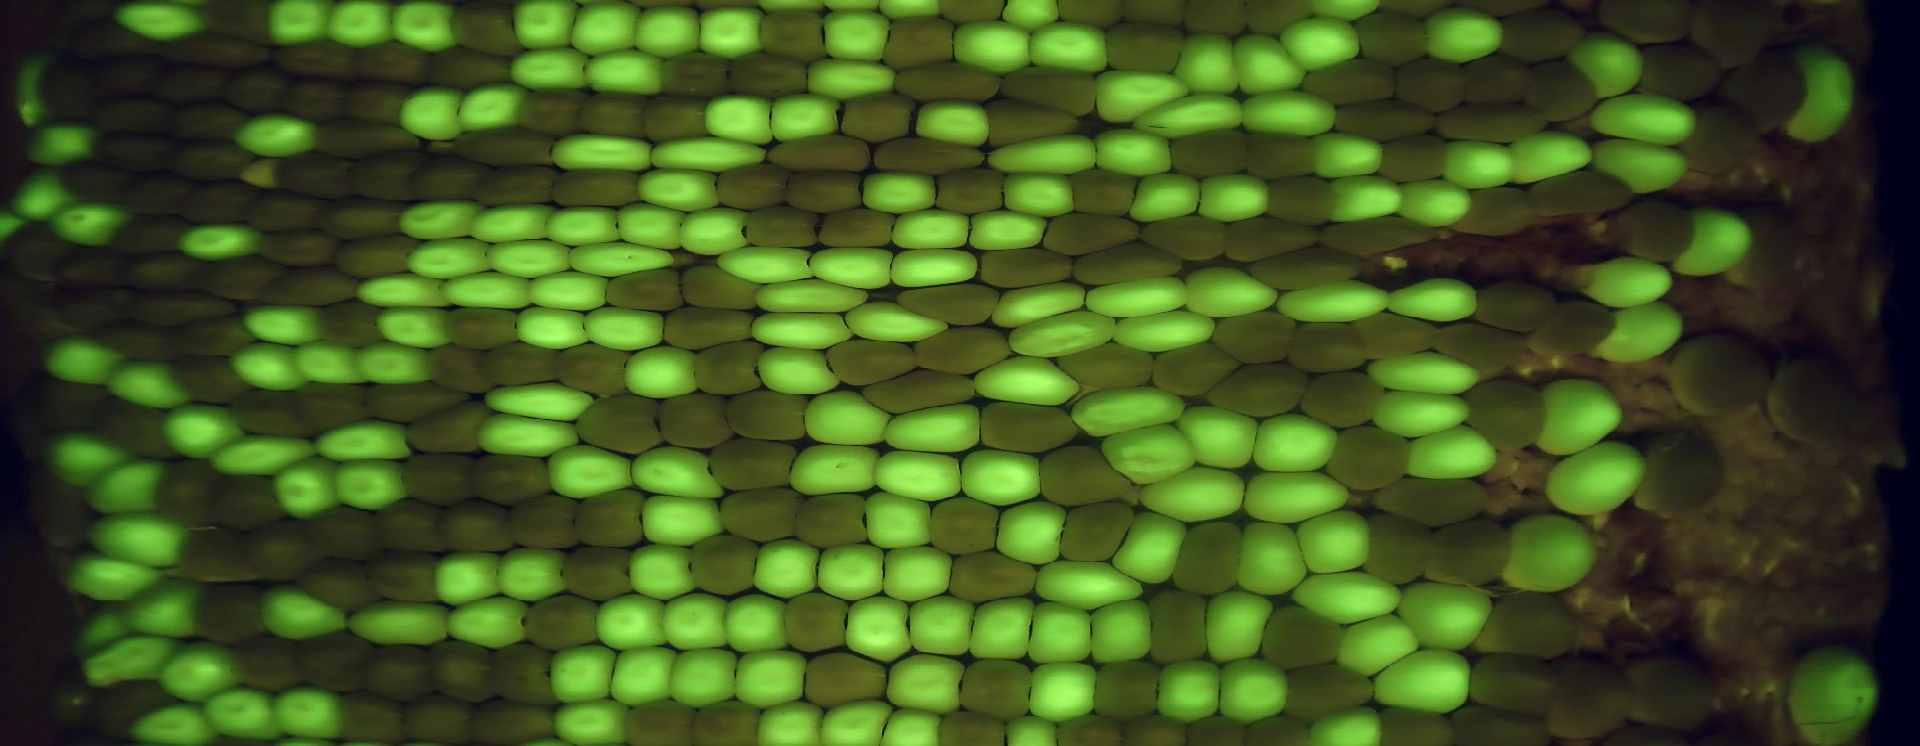fluorescent: (1780, 639, 1888, 745), (1536, 435, 1652, 524), (1495, 510, 1605, 595), (1389, 573, 1498, 653), (1528, 374, 1622, 463), (1784, 39, 1858, 148), (1365, 644, 1476, 717), (1236, 465, 1357, 529), (58, 546, 175, 611), (1583, 296, 1689, 369), (1135, 461, 1251, 526), (77, 627, 189, 695), (80, 507, 198, 570), (1291, 565, 1407, 628), (1669, 202, 1758, 284), (1226, 518, 1318, 595), (1330, 608, 1423, 684), (1586, 91, 1706, 149), (1106, 505, 1191, 586), (156, 638, 255, 708), (1095, 420, 1205, 483), (195, 429, 324, 481), (1067, 385, 1188, 441), (632, 439, 727, 510), (1398, 423, 1505, 486), (1032, 557, 1155, 612), (1267, 278, 1398, 330), (38, 425, 146, 488), (252, 581, 355, 646), (1560, 28, 1651, 102), (1004, 309, 1129, 361), (1092, 65, 1195, 129), (1245, 412, 1346, 477), (1362, 345, 1485, 398), (1587, 134, 1695, 194), (1571, 247, 1676, 309), (473, 408, 591, 462), (1128, 88, 1249, 141), (1174, 401, 1264, 472), (879, 398, 984, 458), (342, 595, 456, 650), (988, 496, 1071, 571), (1368, 386, 1476, 443), (869, 445, 972, 505), (118, 575, 211, 641), (1180, 262, 1284, 321), (482, 375, 604, 425), (76, 454, 171, 518), (973, 352, 1084, 407), (789, 436, 885, 499), (984, 127, 1104, 178), (880, 650, 970, 718), (802, 386, 896, 450), (538, 442, 642, 500), (647, 129, 771, 176), (1294, 506, 1381, 575), (1224, 29, 1311, 98), (1234, 87, 1344, 141), (1205, 586, 1276, 669), (160, 398, 250, 464), (544, 127, 661, 178), (637, 488, 731, 550), (905, 588, 982, 664), (588, 586, 675, 653), (947, 15, 1040, 77), (1505, 125, 1598, 187), (438, 590, 535, 650), (711, 238, 818, 292), (731, 641, 812, 712), (905, 94, 1000, 154), (1089, 121, 1184, 181), (958, 445, 1046, 510), (989, 277, 1089, 334), (841, 296, 958, 345), (752, 274, 879, 318), (962, 594, 1038, 668), (632, 160, 729, 218), (1416, 7, 1512, 65), (61, 600, 140, 671), (264, 682, 355, 744), (754, 341, 849, 399), (1273, 15, 1368, 73), (662, 646, 744, 713), (1085, 590, 1158, 665), (655, 586, 735, 654), (883, 243, 988, 294), (1168, 26, 1243, 98), (198, 685, 294, 741), (1382, 272, 1484, 325), (1213, 657, 1296, 722), (1024, 16, 1112, 76), (394, 194, 500, 244), (578, 45, 673, 100), (1085, 271, 1195, 318), (564, 238, 687, 281), (743, 307, 862, 352), (842, 594, 915, 666), (309, 416, 418, 464), (627, 539, 705, 605), (1025, 661, 1109, 723), (1025, 598, 1098, 668), (1153, 657, 1228, 725), (811, 537, 887, 604), (749, 535, 825, 603), (1305, 125, 1392, 184), (228, 111, 327, 163), (719, 590, 797, 655), (40, 332, 129, 390), (1109, 307, 1224, 352), (1435, 137, 1524, 194), (878, 543, 960, 604), (107, 1, 220, 45), (393, 78, 470, 143), (102, 352, 189, 409), (996, 165, 1086, 220), (800, 55, 904, 103), (40, 198, 135, 251), (504, 40, 596, 94), (545, 641, 621, 706), (224, 337, 313, 392), (563, 1, 645, 61), (5, 164, 82, 228), (804, 243, 898, 295), (675, 202, 758, 261), (350, 268, 458, 314), (700, 88, 780, 149), (171, 217, 273, 265), (863, 488, 938, 552), (607, 643, 682, 708), (1193, 168, 1278, 224), (623, 342, 705, 401), (860, 164, 947, 219), (432, 548, 508, 610), (692, 5, 773, 62), (453, 80, 536, 135), (235, 298, 331, 345), (482, 232, 576, 281), (765, 89, 842, 148), (816, 9, 895, 65), (632, 2, 707, 62), (289, 334, 370, 390), (1392, 175, 1477, 228), (125, 699, 220, 746), (962, 205, 1056, 252), (495, 545, 572, 603), (522, 268, 612, 317), (400, 235, 498, 281), (584, 305, 672, 355), (1327, 171, 1409, 225), (1127, 168, 1204, 224), (464, 201, 562, 245), (888, 205, 976, 254), (349, 334, 435, 385), (549, 696, 634, 746), (514, 301, 599, 352), (506, 1, 585, 54), (538, 205, 627, 251), (816, 695, 896, 746), (388, 1, 462, 58), (618, 198, 692, 255), (1300, 701, 1391, 746), (438, 268, 527, 315), (10, 47, 58, 132), (372, 301, 454, 350), (324, 1, 400, 53), (23, 118, 103, 167), (752, 696, 829, 746), (263, 1, 334, 53), (879, 701, 948, 746), (1000, 712, 1067, 746), (996, 1, 1065, 33), (1, 206, 33, 247)
nonfluorescent: (1665, 326, 1780, 416), (1761, 345, 1862, 445), (1534, 653, 1641, 744), (1631, 423, 1728, 521), (1618, 646, 1720, 733), (1471, 589, 1584, 664), (1716, 49, 1815, 129), (1460, 376, 1556, 454), (1671, 97, 1766, 176), (20, 458, 104, 546), (1259, 599, 1352, 676), (1373, 473, 1496, 530), (1037, 440, 1134, 513), (1423, 516, 1517, 590), (975, 396, 1089, 457), (1322, 420, 1417, 494), (1168, 514, 1248, 601), (87, 393, 184, 463), (574, 390, 671, 459), (1244, 243, 1375, 294), (796, 644, 898, 710), (1291, 55, 1409, 111), (86, 675, 189, 740), (109, 284, 245, 333), (860, 363, 984, 415), (1205, 361, 1311, 423), (1329, 91, 1449, 145), (1277, 661, 1380, 724), (1360, 506, 1438, 589), (1528, 167, 1640, 224), (1320, 211, 1447, 261), (1467, 648, 1569, 710), (1731, 203, 1809, 284), (1149, 339, 1250, 401), (1629, 39, 1725, 103), (23, 366, 116, 432), (291, 628, 384, 695), (1438, 96, 1551, 149), (1520, 51, 1602, 126), (1142, 582, 1213, 668), (400, 399, 500, 461), (1, 272, 84, 344), (996, 62, 1104, 118), (1054, 341, 1166, 394), (980, 96, 1084, 153), (715, 486, 814, 546), (484, 638, 566, 710), (913, 321, 1016, 379), (426, 635, 509, 706), (1054, 499, 1138, 570), (1390, 54, 1480, 119), (1614, 198, 1701, 266), (787, 488, 879, 551), (1071, 239, 1194, 287), (1526, 298, 1621, 359), (943, 548, 1042, 606), (1299, 366, 1391, 429), (686, 530, 769, 599), (569, 485, 653, 554), (225, 385, 321, 443), (1218, 211, 1322, 265), (956, 654, 1040, 722), (266, 33, 367, 88), (707, 436, 803, 494), (922, 494, 1008, 559), (890, 59, 1009, 105), (361, 379, 474, 428), (869, 131, 991, 176), (1430, 318, 1532, 372), (898, 277, 1007, 327), (676, 258, 769, 317), (722, 387, 816, 446), (1209, 307, 1302, 366), (1347, 310, 1446, 365), (449, 122, 561, 171), (760, 131, 880, 176), (369, 494, 456, 556), (225, 628, 312, 691), (1446, 699, 1561, 746), (355, 638, 441, 701), (1471, 276, 1561, 334), (399, 149, 493, 206), (1451, 183, 1545, 239), (253, 265, 367, 311), (519, 592, 607, 652), (1100, 16, 1191, 73), (86, 314, 184, 367), (655, 390, 740, 452), (364, 545, 448, 608), (40, 654, 110, 729), (1139, 211, 1236, 265), (1286, 316, 1374, 375), (160, 132, 263, 183), (164, 352, 260, 405), (825, 338, 924, 390), (1041, 209, 1145, 258), (1453, 50, 1538, 110), (193, 578, 273, 642), (328, 229, 429, 279), (291, 379, 381, 435), (1090, 657, 1164, 724), (211, 469, 293, 530), (446, 1, 533, 59), (549, 342, 636, 399), (1166, 124, 1254, 180), (431, 496, 517, 554), (779, 590, 855, 655), (347, 146, 429, 206), (467, 451, 557, 505), (301, 503, 392, 557), (295, 555, 386, 609), (880, 11, 960, 72), (153, 456, 223, 526), (238, 519, 326, 575), (980, 241, 1076, 292), (167, 311, 261, 363), (1240, 124, 1321, 184), (4, 217, 80, 281), (424, 45, 519, 96), (193, 251, 289, 301), (179, 526, 266, 581), (420, 339, 500, 399), (333, 686, 413, 746), (396, 690, 480, 746), (167, 29, 271, 75), (274, 149, 364, 202), (560, 544, 639, 603), (756, 6, 836, 64), (1371, 130, 1453, 186), (29, 1, 116, 54), (664, 304, 759, 352), (468, 696, 558, 746), (175, 176, 263, 228), (547, 162, 642, 209), (347, 39, 436, 89), (51, 281, 135, 334), (400, 450, 484, 503), (716, 158, 796, 214), (440, 303, 527, 354), (1062, 167, 1146, 219), (509, 489, 580, 551), (219, 58, 291, 119), (838, 89, 920, 143), (312, 194, 407, 240), (726, 50, 816, 99), (310, 116, 425, 154), (32, 55, 100, 119), (782, 167, 869, 217), (479, 339, 564, 390), (617, 695, 699, 746), (165, 98, 258, 143), (122, 247, 213, 294), (516, 83, 595, 136), (578, 86, 654, 141), (315, 299, 391, 354), (66, 20, 158, 65), (931, 165, 1011, 217), (89, 126, 176, 174), (1264, 171, 1340, 225), (151, 59, 234, 108), (818, 205, 901, 254), (640, 89, 713, 146), (471, 160, 561, 206), (54, 157, 138, 205), (51, 244, 136, 292), (256, 225, 347, 269), (279, 71, 351, 126), (602, 266, 686, 314), (84, 54, 171, 99), (660, 49, 736, 100), (107, 209, 195, 254), (1373, 702, 1460, 746), (196, 1, 280, 47), (242, 189, 327, 234), (340, 73, 411, 127), (742, 205, 822, 251), (121, 171, 201, 218), (94, 91, 178, 135), (684, 699, 763, 746), (931, 706, 1011, 746), (1239, 1, 1316, 42), (1178, 1, 1258, 39), (1178, 709, 1259, 746), (1240, 710, 1318, 746), (1051, 710, 1127, 746), (1119, 712, 1198, 746), (1051, 1, 1131, 29), (1116, 1, 1198, 28), (933, 1, 1016, 26)
